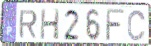2: (62, 8, 81, 41)
6: (85, 8, 102, 42)
C: (126, 9, 147, 43)
F: (105, 8, 125, 43)
H: (40, 8, 61, 41)
R: (18, 9, 39, 40)
